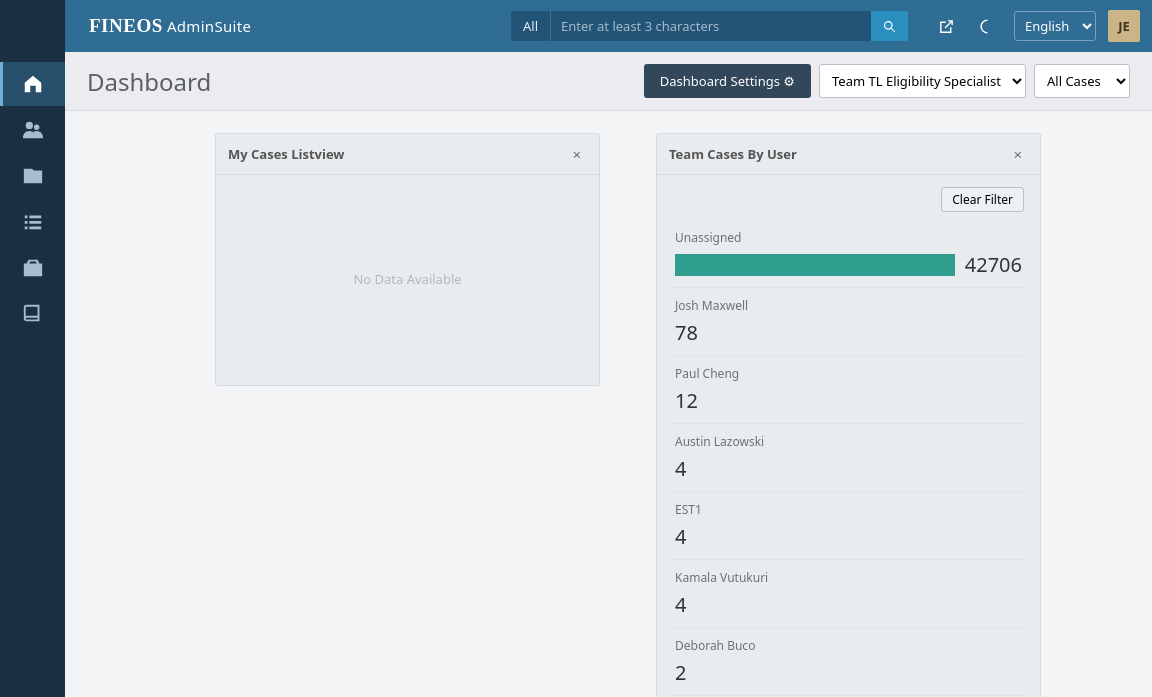
Test: Side-navigation search shortcuts › opens Case Search on the Case tab from the Cases icon
What coordinates should you click on to do the following:
click the button named "cases"
I would click on:
 (32, 176)
Its box is [0,154,65,198].
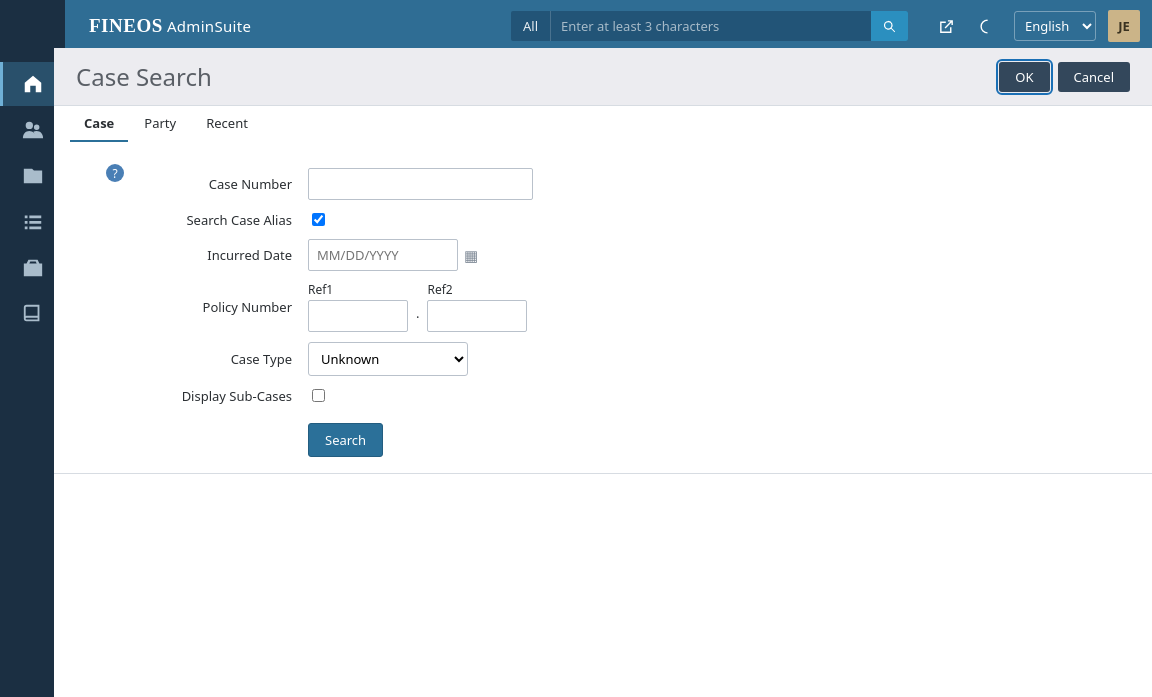
Check: the field named "case number" is shown, box [308,168,533,200]
